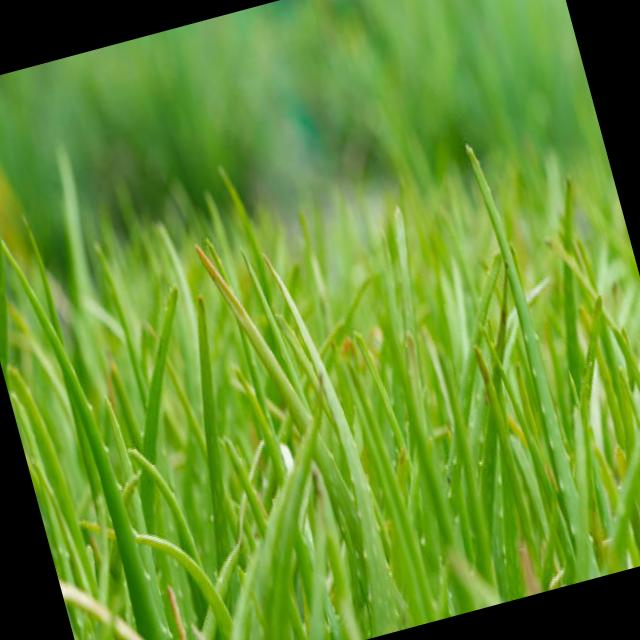AloeVera: (0, 123, 365, 640), (154, 117, 514, 640), (310, 104, 640, 589)
